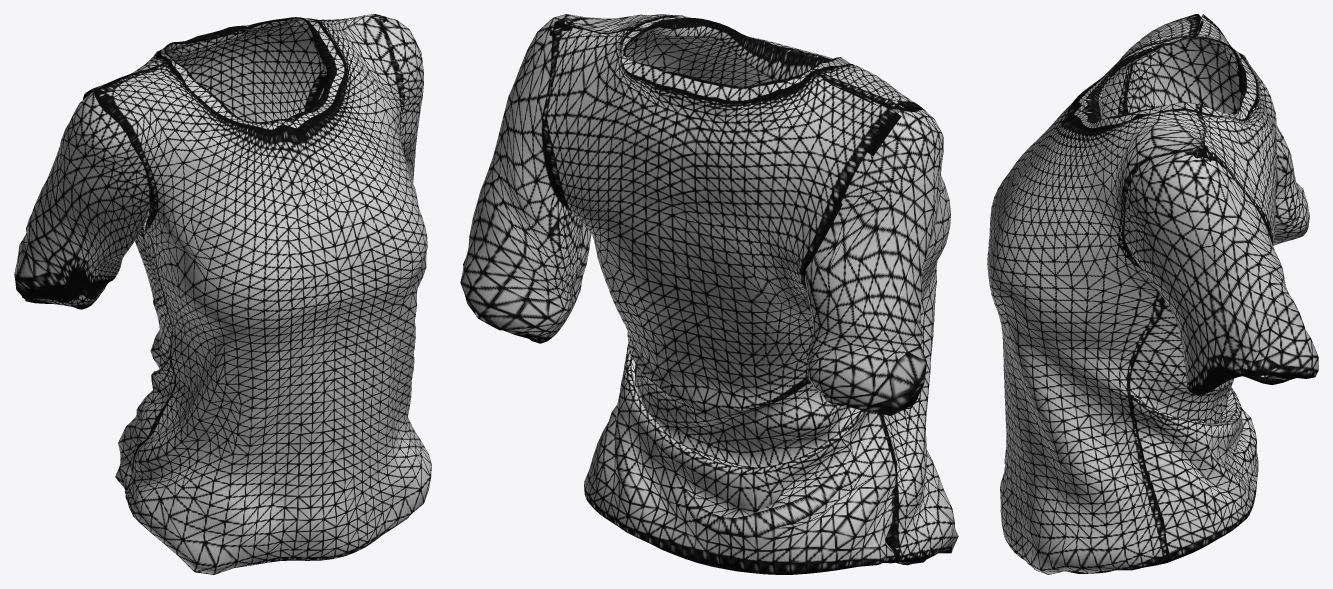
The model's file is Woman-T-Shirt.obj.
3 views of the same model, side by side, from view 1: azimuth 30°, elevation 25°; view 2: azimuth 150°, elevation 25°; view 3: azimuth 270°, elevation 25° (orthographic). The views are drawn at different scales.
Visible parts, largest first — view 1: T-Shirt; view 2: T-Shirt; view 3: T-Shirt.
Part boxes in pixels (left/top/right/bottom): T-Shirt: left=14, top=14, right=431, bottom=574; T-Shirt: left=460, top=14, right=958, bottom=574; T-Shirt: left=987, top=14, right=1318, bottom=574.
Size of the model in its own units: 0.397 by 0.4523 by 0.2886.
1 material, 1 textured.
